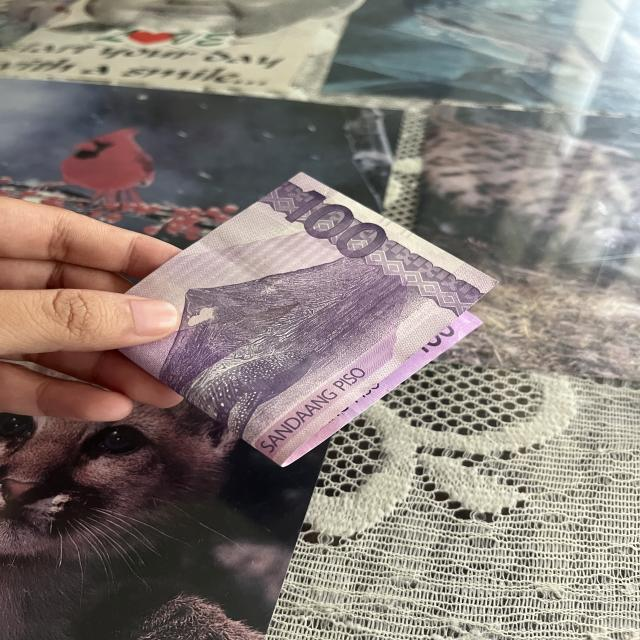value: (293, 184, 387, 268)
